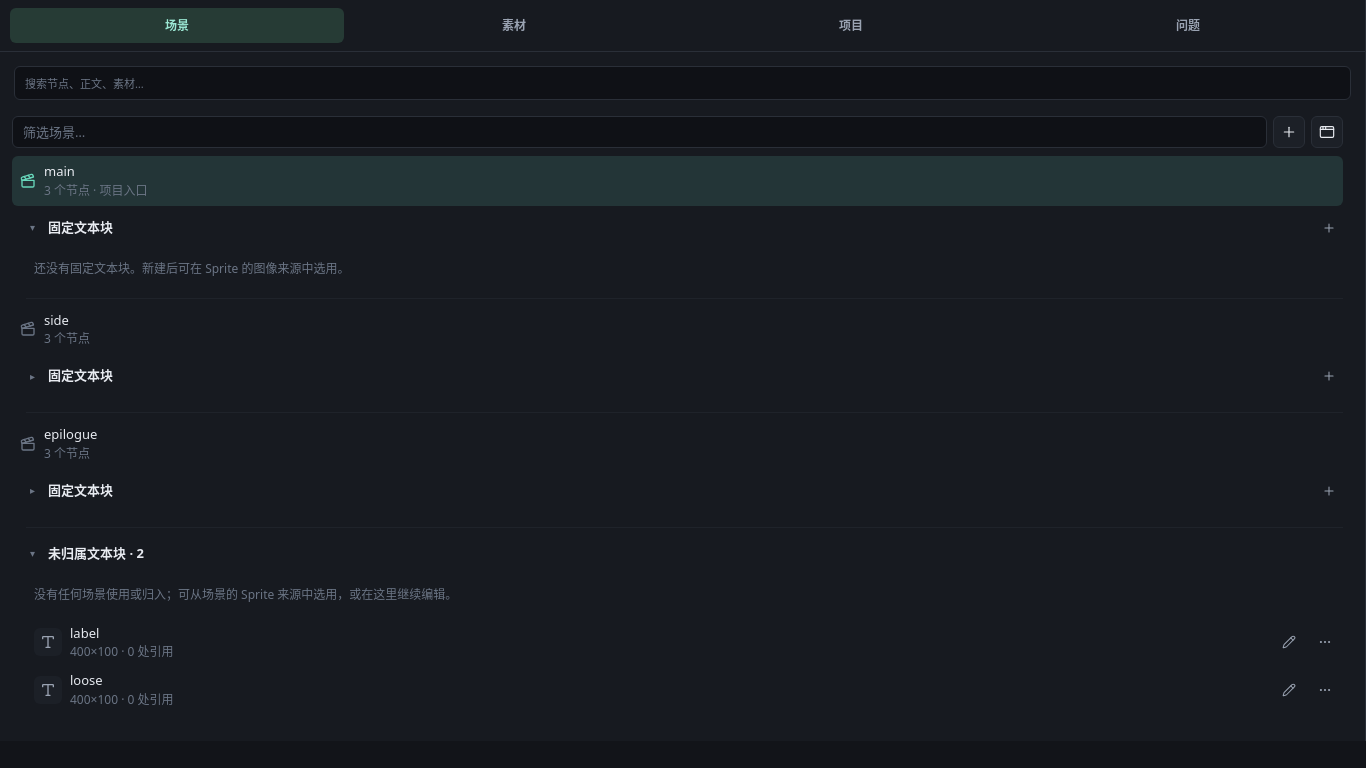
it: scene text block groups › hides the fallback groups while filtering scenes
Expected: the button "▾ 未归属文本块 · 2" is shown, [26,540,1339,568]
Type "side" into the field named "搜索场景".
click(640, 132); type("side")  # box [12,116,1267,148]
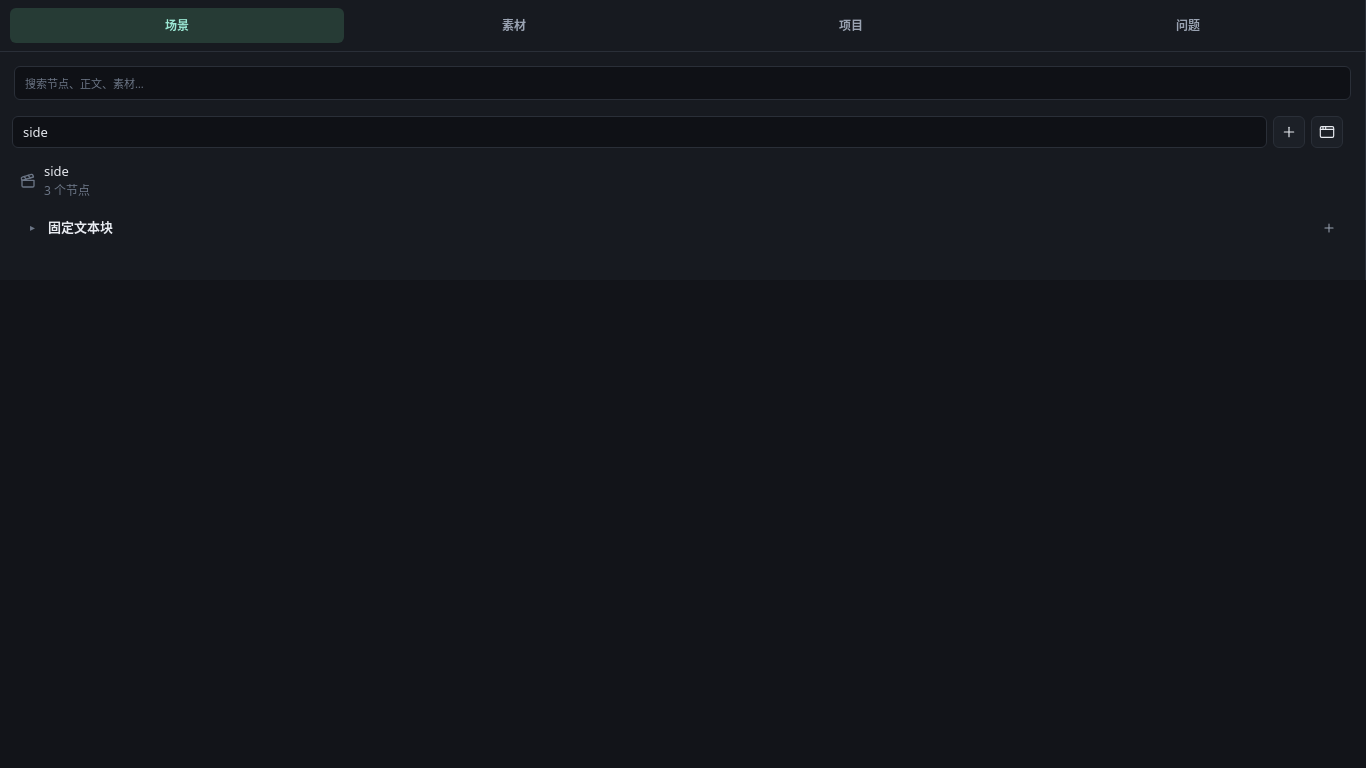
Expected: the button with aria-label "场景 side 的固定文本块" is shown, [26,214,1311,242]
Expected: the button "未归属文本块" is gone
